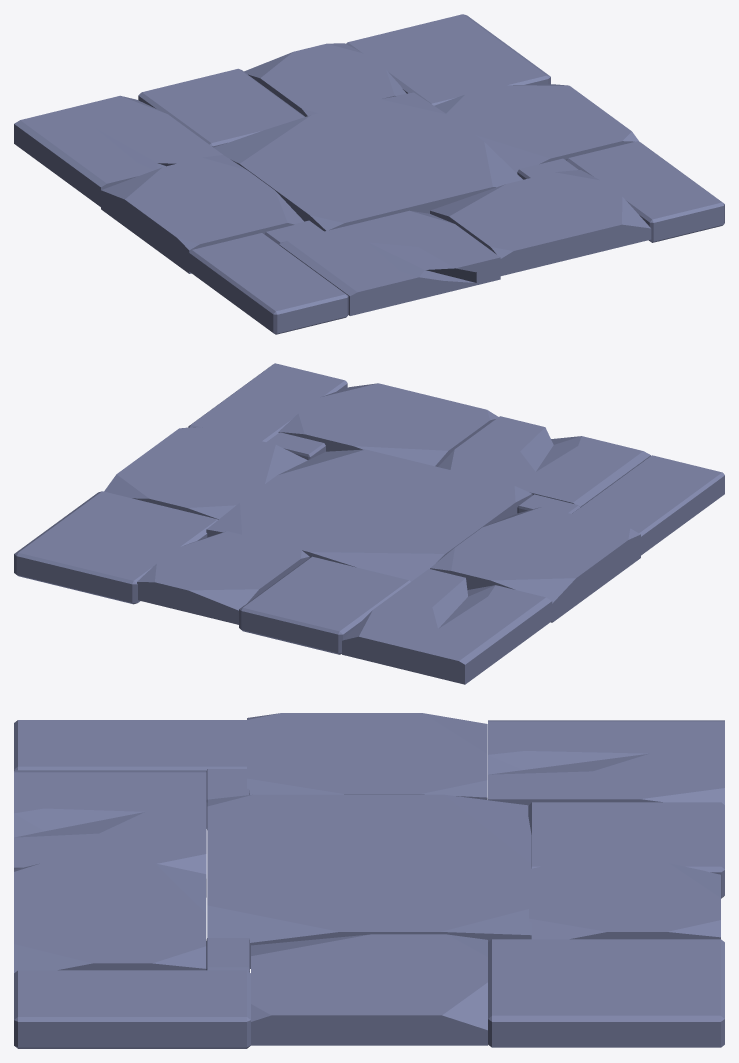
File: floor2.fbx
3 views of the same model, one above another, from view 1: azimuth 30°, elevation 25°; view 2: azimuth 150°, elevation 25°; view 3: azimuth 270°, elevation 25° (orthographic). The views are drawn at different scales.
Visible parts, largest first — view 1: floor2; view 2: floor2; view 3: floor2.
Part boxes in pixels (left/top/right/bottom): floor2: left=14, top=14, right=724, bottom=334; floor2: left=14, top=363, right=724, bottom=684; floor2: left=14, top=713, right=724, bottom=1048.
Size of the model in its own units: 3 by 0.1727 by 3.
